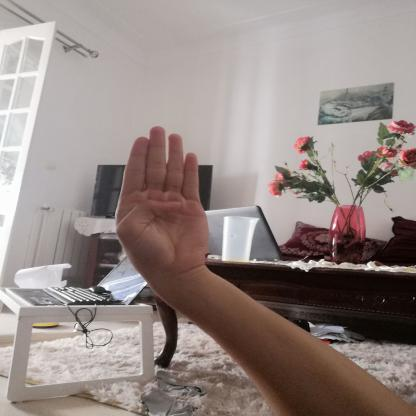KAAF: (99, 118, 229, 286)
